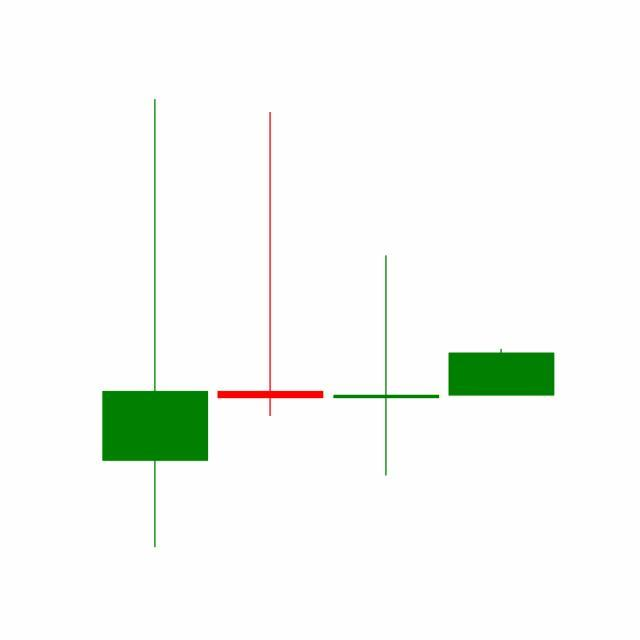Marubozu: (444, 349, 560, 397)
